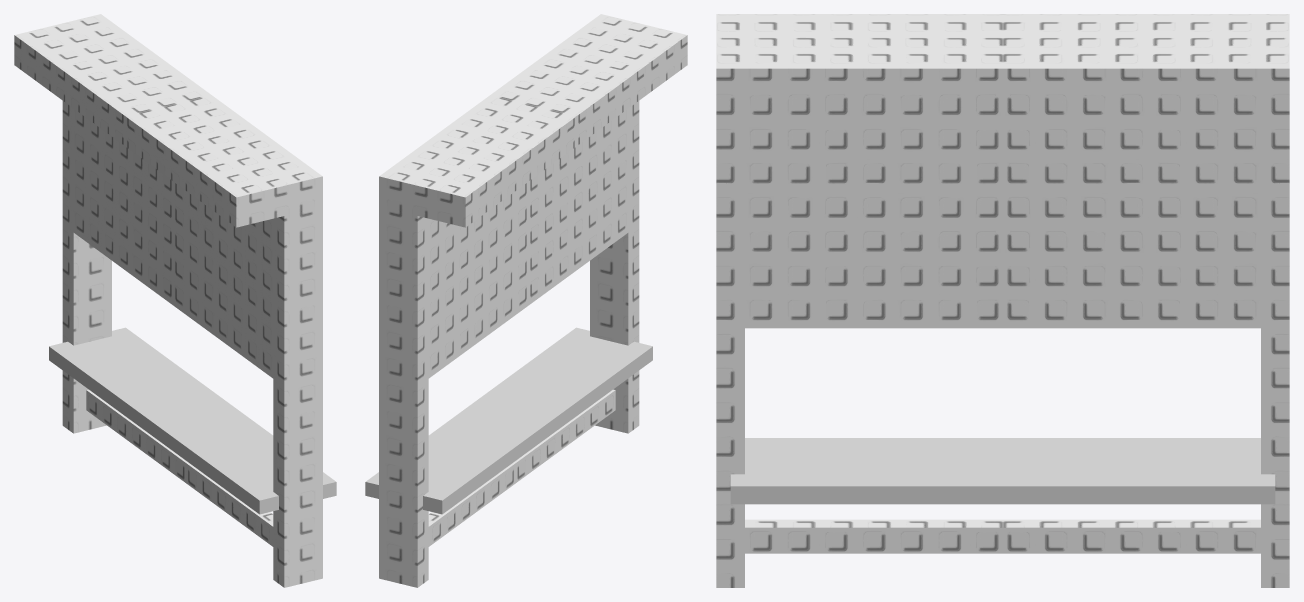
The model's file is SM_Shop.fbx.
3 renders of one model, left to right at view 1: azimuth 30°, elevation 25°; view 2: azimuth 150°, elevation 25°; view 3: azimuth 270°, elevation 25°, orthographic. The views are drawn at different scales.
Visible parts, largest first — view 1: Cube.002; view 2: Cube.002; view 3: Cube.002.
Boxes of the visible parts, x1,y1,x2,y2 form: Cube.002: (14, 14, 336, 587); Cube.002: (365, 14, 687, 587); Cube.002: (716, 14, 1289, 587).
Size of the model in its own units: 110 by 400 by 400.
